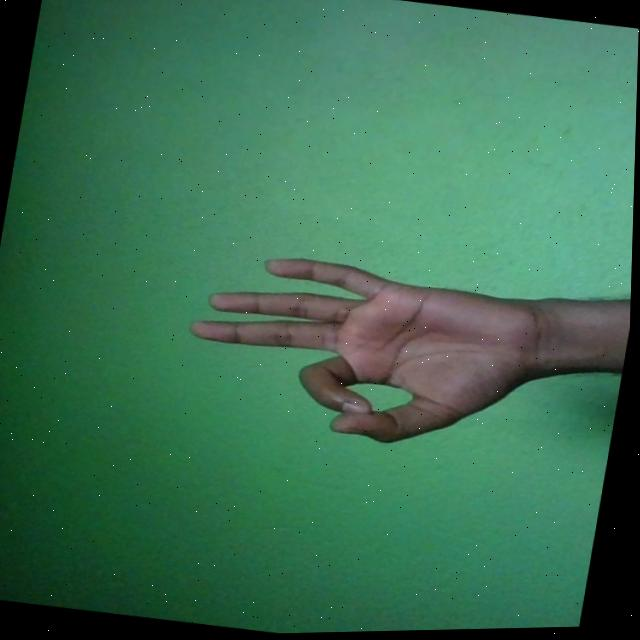Ok: (177, 241, 562, 467)
